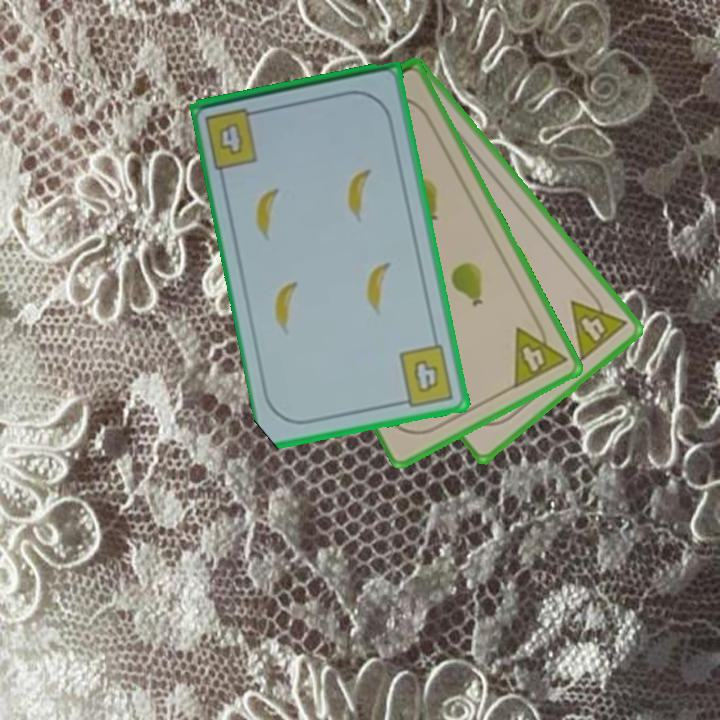4b: (201, 104, 267, 172), (395, 341, 457, 410)
4p: (567, 284, 630, 364), (510, 314, 570, 391)
